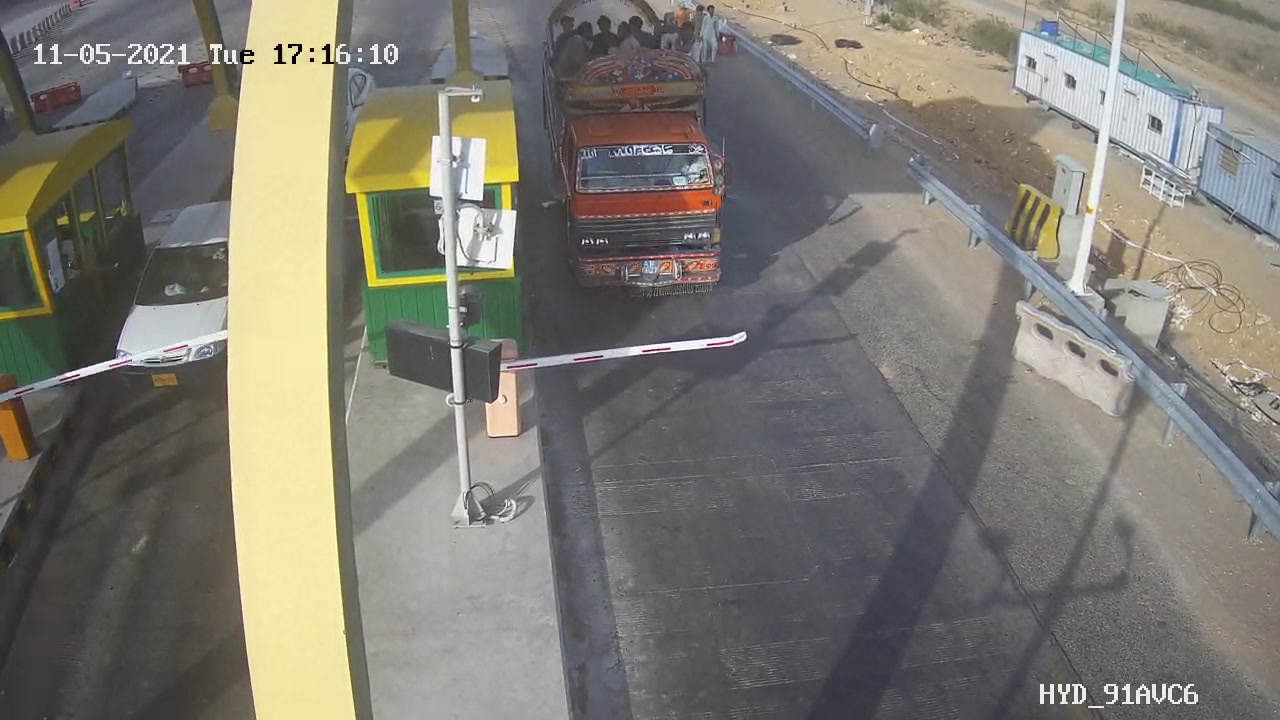F5: (526, 1, 757, 321)
